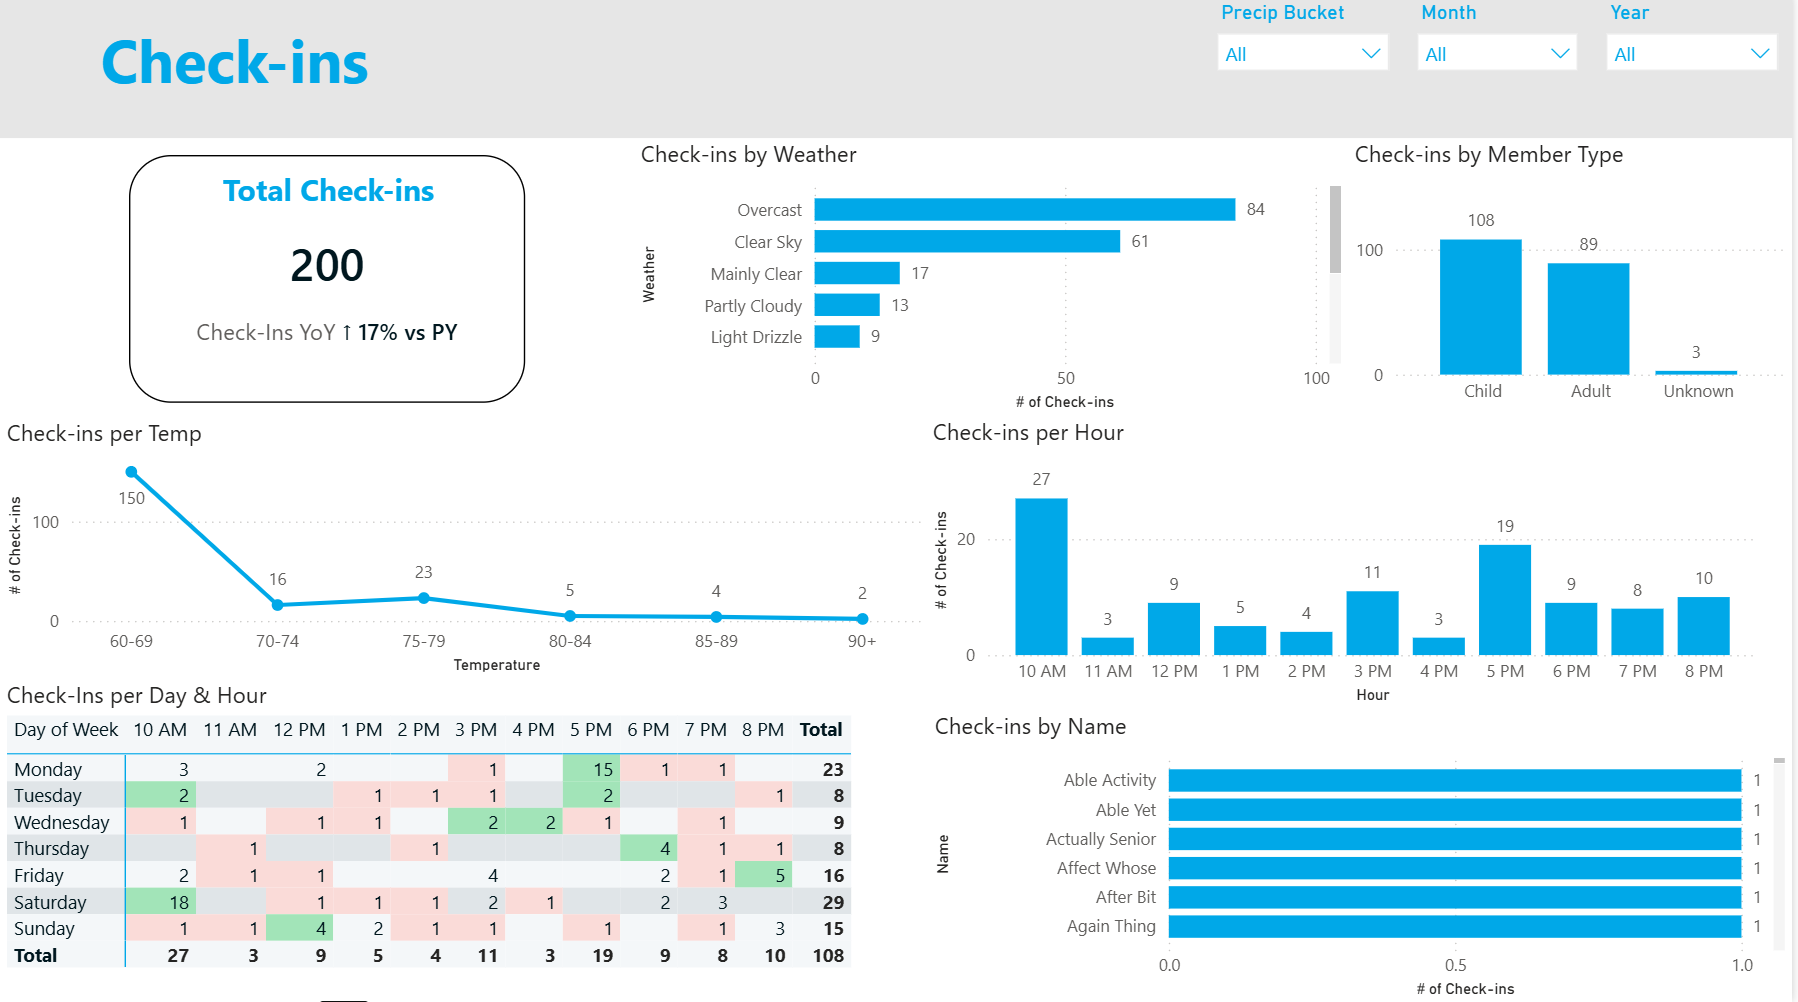

Layout of this report page (visuals, bound fields, positions):
{"tool":"powerbi","page":{"name":"Check-Ins","canvas":[1280,720],"ordinal":2},"visuals":[{"type":"shape","box":[0,0,1280,102.9],"z":0},{"type":"textbox","box":[0,12.7,335.3,76.5],"z":1000},{"type":"slicer","fields":{"Values":["public date_table.year"]},"box":[1137.2,0,142.8,103.3],"z":2000},{"type":"slicer","fields":{"Values":["public date_table.month_name"]},"box":[1002.1,0,135.1,103.3],"z":3000},{"type":"pivotTable","title":"Check-Ins per Day & Hour","fields":{"Columns":["Hour_Table.hour_12hr"],"Rows":["public date_table.day_of_week"],"Values":["CountNonNull(public checkins.checkin_id)"]},"box":[0,489.6,661.7,233.3],"z":5000},{"type":"lineChart","title":"Check-ins per Temp","fields":{"Category":["public weather.Temp Range"],"Y":["CountNonNull(public checkins.checkin_id)"]},"box":[0,302.2,662.9,187.4],"z":6000},{"type":"barChart","title":"Check-ins by Name","fields":{"Category":["public checkins.name"],"Y":["CountNonNull(public checkins.name)"]},"box":[663,511.4,617,209.8],"z":7000},{"type":"barChart","title":"Check-ins by Weather","fields":{"Category":["public weather.weather_description"],"Y":["CountNonNull(public checkins.checkin_id)"]},"box":[453.2,102.6,509.9,199],"z":8000},{"type":"columnChart","title":"Check-ins per Hour","fields":{"Category":["Hour_Table.hour_12hr"],"Y":["CountNonNull(public checkins.checkin_id)"]},"box":[661.4,301.6,598.7,209.8],"z":9000},{"type":"columnChart","title":"Check-ins by Member Type","fields":{"Category":["public checkins.member_type"],"Y":["CountNonNull(public checkins.checkin_id)"]},"box":[963,103,317,199],"z":10000},{"type":"cardVisual","title":"Total Check-ins","fields":{"Data":["_Measures.Total Checkins Formatted"]},"box":[91.8,114.7,283,177.2],"z":11000},{"type":"slicer","fields":{"Values":["public weather.Precipitation Bucket"]},"box":[859.3,0,142.8,103.3],"z":12000}]}

Visuals, with their boxes in screenshot pixels (x1, y1, x2, y2), scaled from the page's 1280x720 canvas onto the 1798x1002 screenshot:
shape: [left=0, top=0, right=1797, bottom=143]
textbox: [left=0, top=18, right=471, bottom=124]
slicer - public date_table.year: [left=1597, top=0, right=1797, bottom=144]
slicer - public date_table.month_name: [left=1408, top=0, right=1597, bottom=144]
"Check-Ins per Day & Hour" pivotTable: [left=0, top=681, right=929, bottom=1001]
"Check-ins per Temp" lineChart: [left=0, top=421, right=931, bottom=681]
"Check-ins by Name" barChart: [left=931, top=712, right=1797, bottom=1001]
"Check-ins by Weather" barChart: [left=637, top=143, right=1353, bottom=420]
"Check-ins per Hour" columnChart: [left=929, top=420, right=1770, bottom=712]
"Check-ins by Member Type" columnChart: [left=1353, top=143, right=1797, bottom=420]
"Total Check-ins" cardVisual: [left=129, top=160, right=526, bottom=406]
slicer - public weather.Precipitation Bucket: [left=1207, top=0, right=1408, bottom=144]
